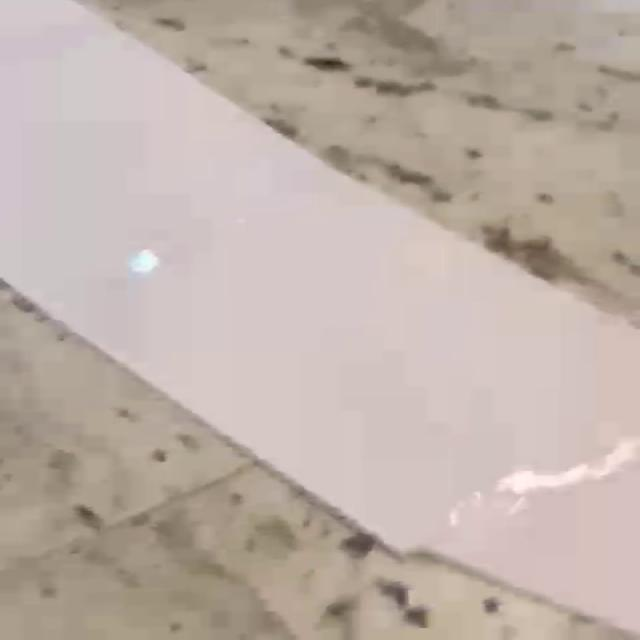road: (1, 0, 639, 632)
